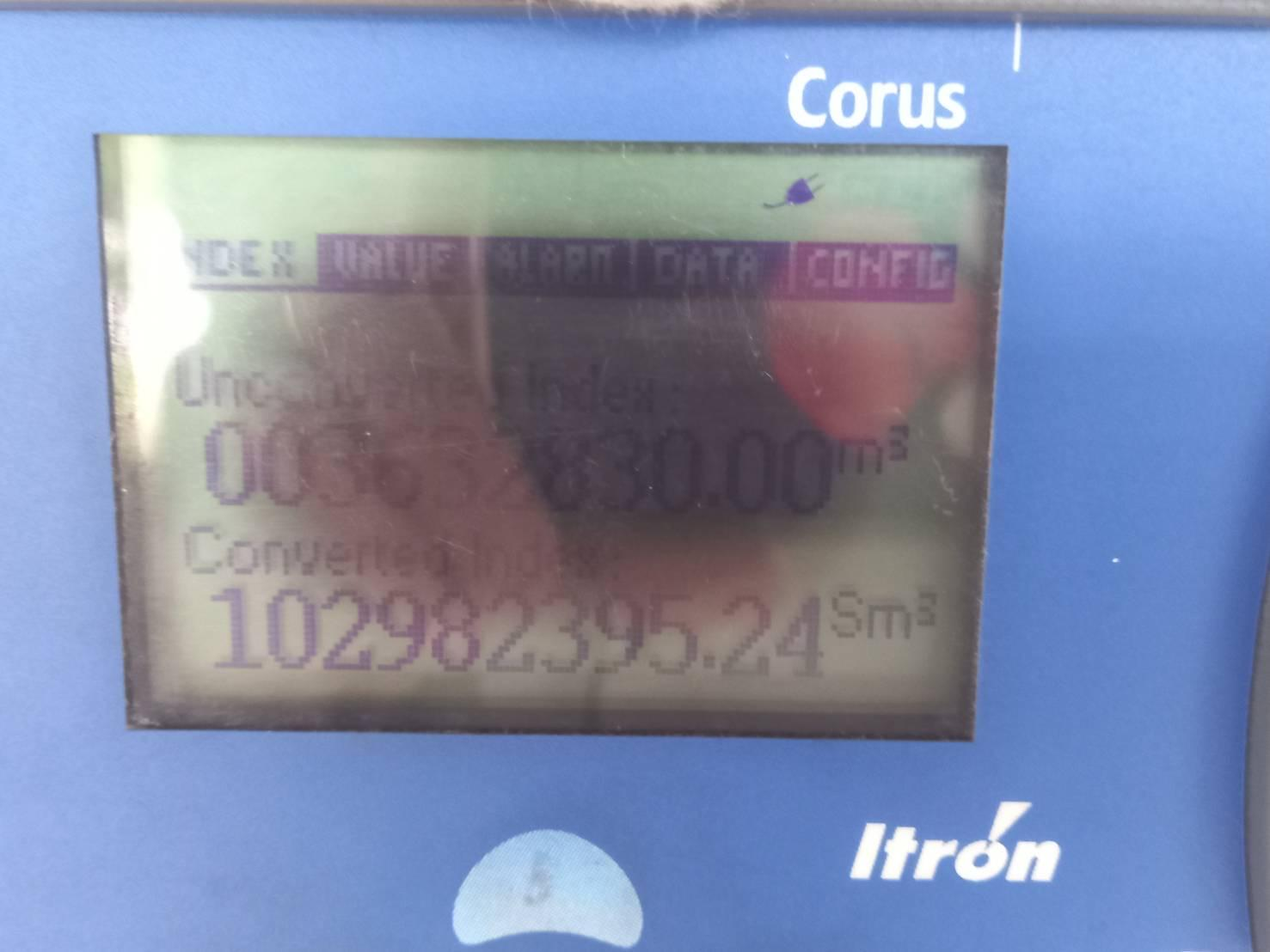digital_screen: (86, 130, 1007, 742)
